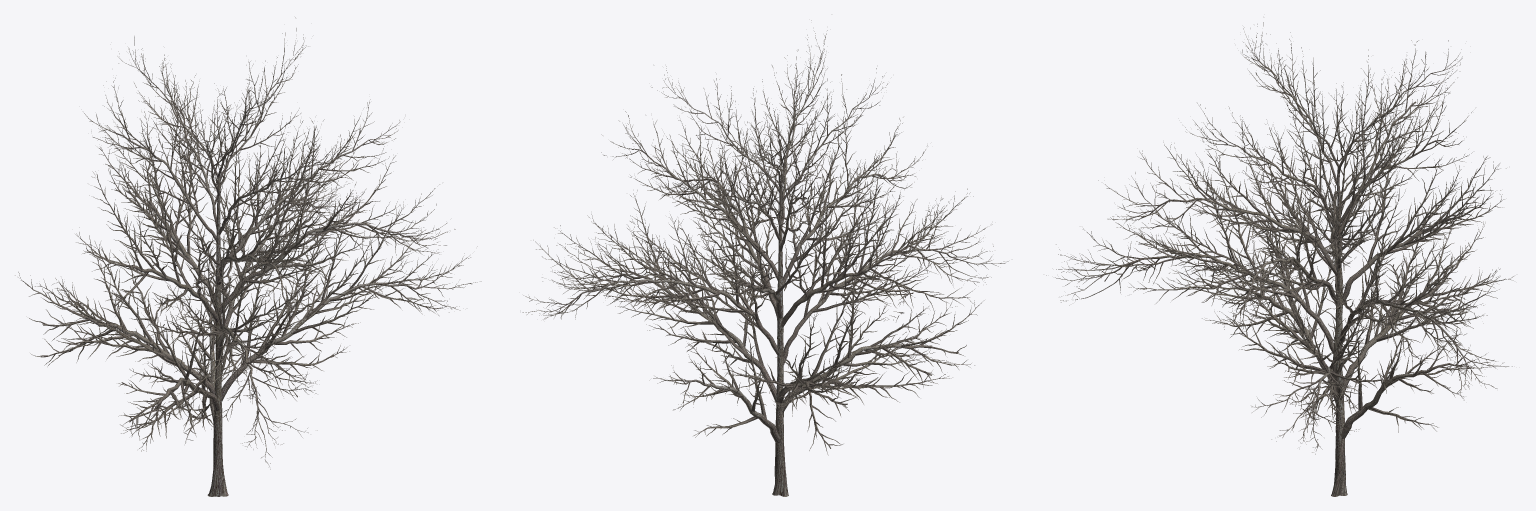
The model's file is tree_trunk_2.obj.
3 views of the same model, side by side, from view 1: azimuth 30°, elevation 25°; view 2: azimuth 150°, elevation 25°; view 3: azimuth 270°, elevation 25° (orthographic). The views are drawn at different scales.
Bounding box in the file's own units: 11.38 × 12.69 × 11.58.
1 material, 1 textured.
